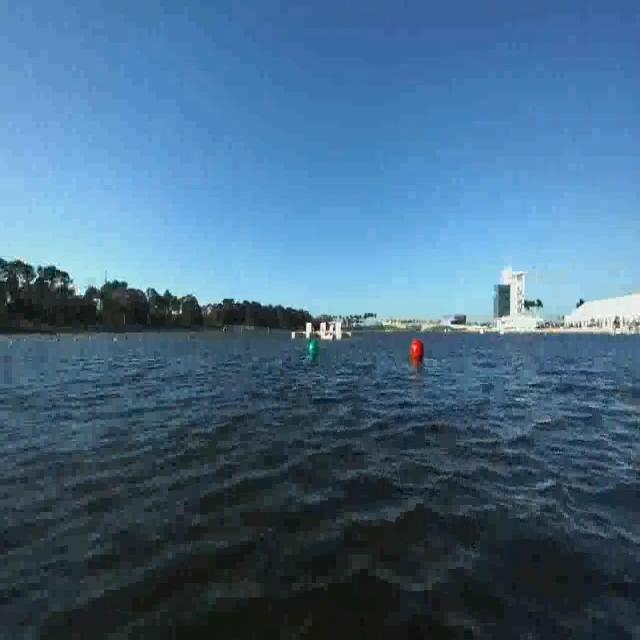green-buoy: (308, 338, 320, 363)
red-buoy: (412, 340, 424, 360)
